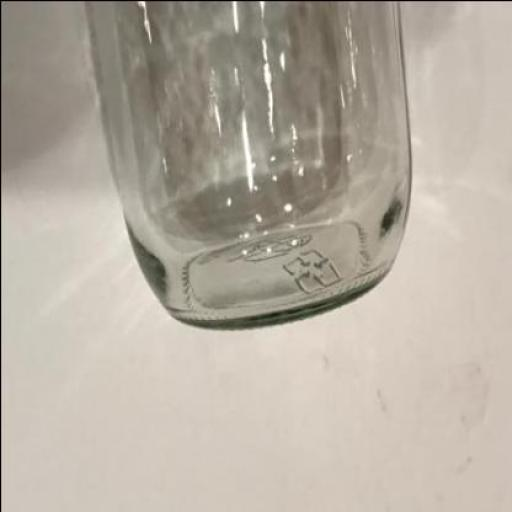glass: (85, 2, 413, 329)
